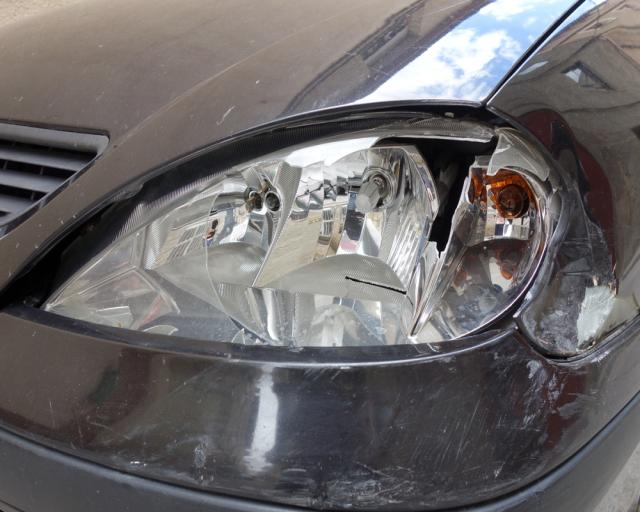dent: (519, 108, 618, 351)
lamp broken: (3, 113, 560, 348)
scratch: (106, 363, 533, 505)
